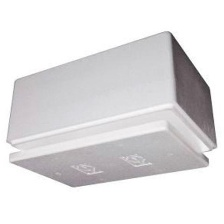foam_box: (1, 27, 220, 192)
